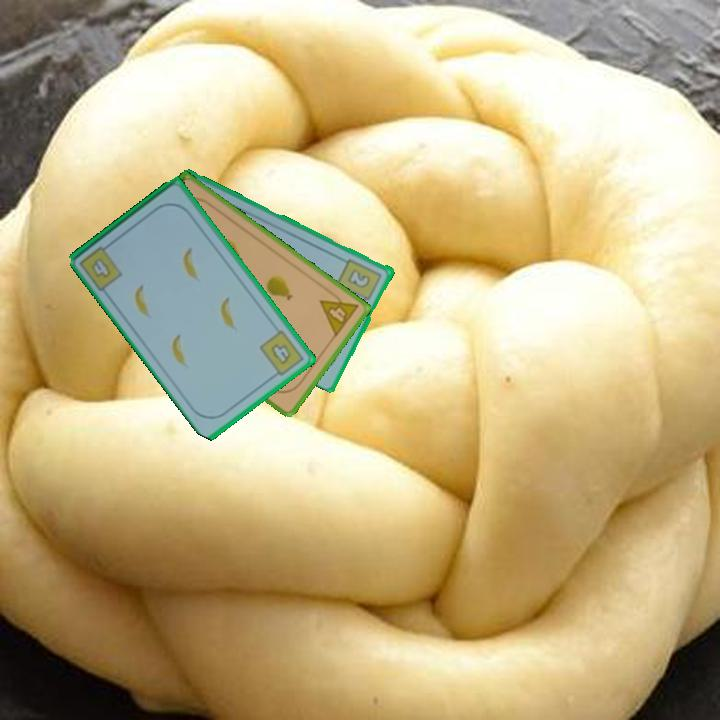2b: (334, 255, 385, 307)
4b: (256, 326, 307, 381), (76, 239, 125, 293)
4p: (316, 286, 361, 340)
